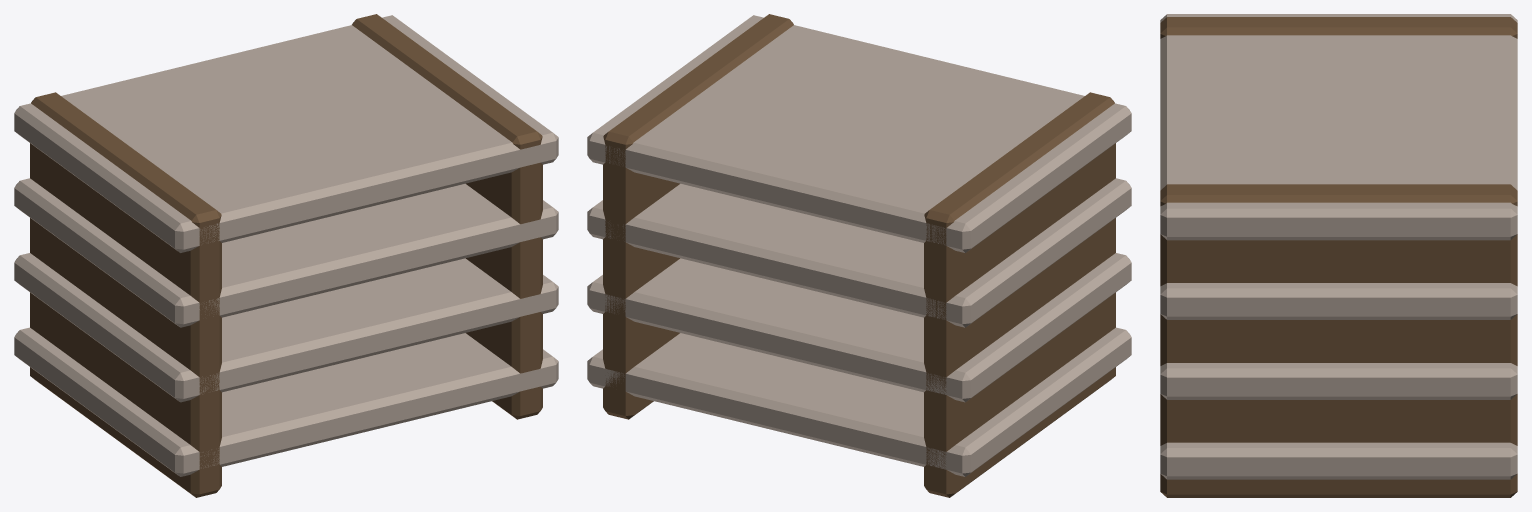
Rendered from town_produce_crate.glb.
3 renders of one model, left to right at view 1: azimuth 30°, elevation 25°; view 2: azimuth 150°, elevation 25°; view 3: azimuth 270°, elevation 25°, orthographic. The views are drawn at different scales.
Size of the model in its own units: 1.22 by 0.86 by 0.92.
